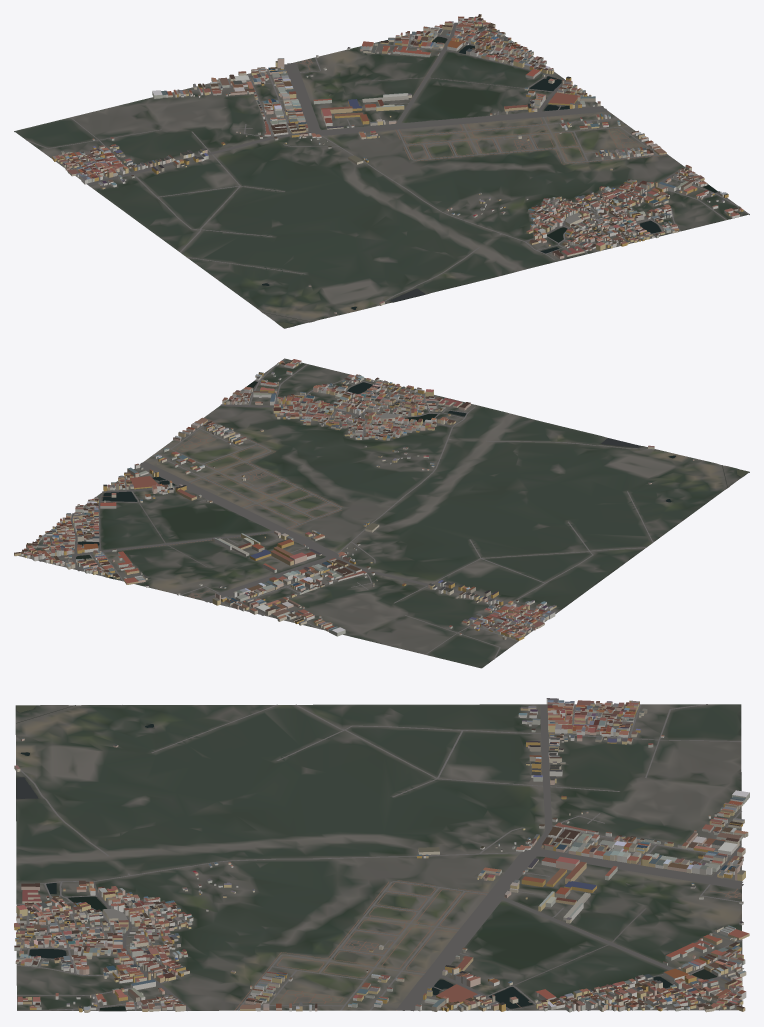
3 renders of one model, top to bottom at view 1: azimuth 30°, elevation 25°; view 2: azimuth 150°, elevation 25°; view 3: azimuth 270°, elevation 25°, orthographic. The views are drawn at different scales.
Visible parts, largest first — view 1: ground, buildings, roads, water; view 2: ground, buildings, roads, water; view 3: ground, buildings, roads, water.
Part boxes in pixels (bbox=[...]): ground: bbox=[14, 20, 749, 328]; buildings: bbox=[52, 14, 743, 313]; roads: bbox=[26, 21, 749, 305]; water: bbox=[262, 36, 717, 328]; ground: bbox=[18, 358, 749, 668]; buildings: bbox=[14, 359, 694, 640]; roads: bbox=[28, 358, 710, 659]; water: bbox=[76, 381, 748, 578]; ground: bbox=[15, 704, 742, 1011]; buildings: bbox=[14, 698, 749, 1012]; roads: bbox=[16, 704, 743, 1011]; water: bbox=[16, 705, 716, 1010].
Size of the model in its own units: 1417 by 31.04 by 1422.
